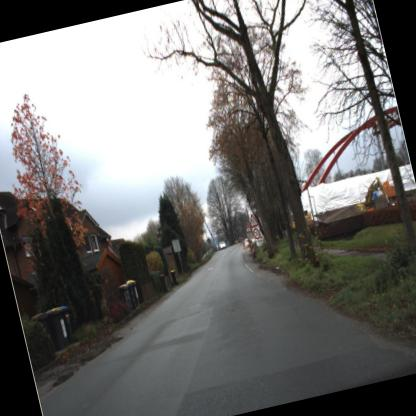danger: (243, 208, 262, 230)
prohibitory: (251, 226, 263, 242)
